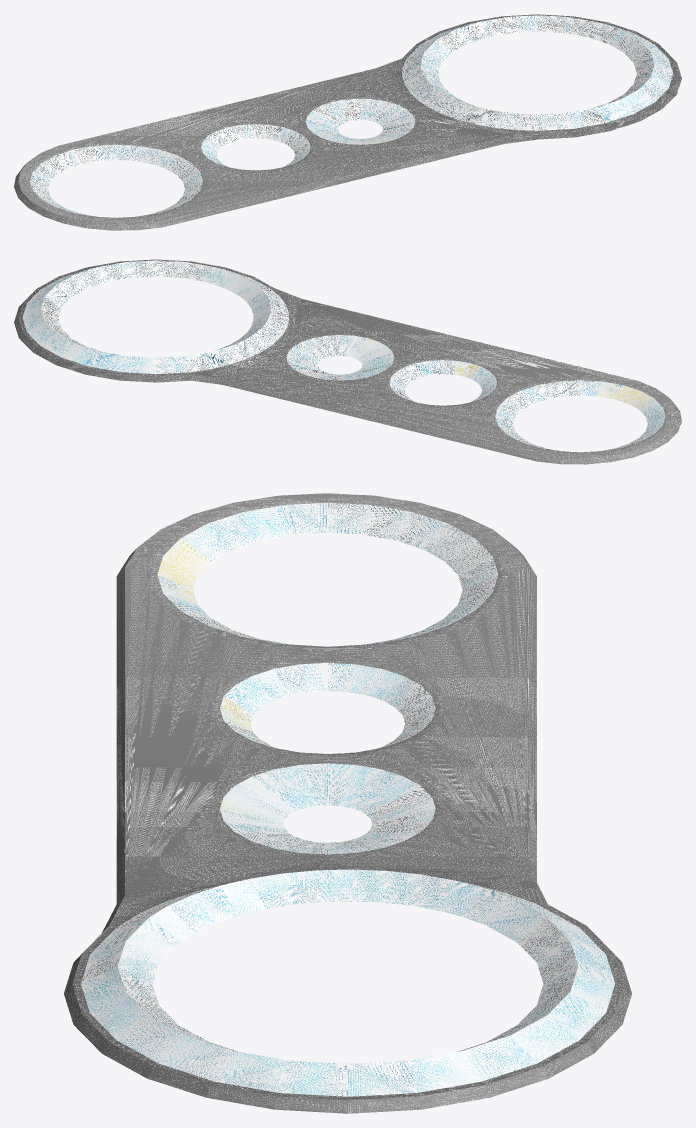
File: original-100.obj
3 views of the same model, one above another, from view 1: azimuth 30°, elevation 25°; view 2: azimuth 150°, elevation 25°; view 3: azimuth 270°, elevation 25° (orthographic). The views are drawn at different scales.
Parts seen in each view (by area): view 1: mesh30/mesh30-geometry#mesh30-geometry; view 2: mesh30/mesh30-geometry#mesh30-geometry; view 3: mesh30/mesh30-geometry#mesh30-geometry.
Boxes of the visible parts, x1,y1,x2,y2 form: mesh30/mesh30-geometry#mesh30-geometry: (14, 14, 681, 230); mesh30/mesh30-geometry#mesh30-geometry: (14, 259, 681, 464); mesh30/mesh30-geometry#mesh30-geometry: (64, 493, 631, 1113).
Size of the model in its own units: 0.2062 by 0.0051 by 0.0806.
